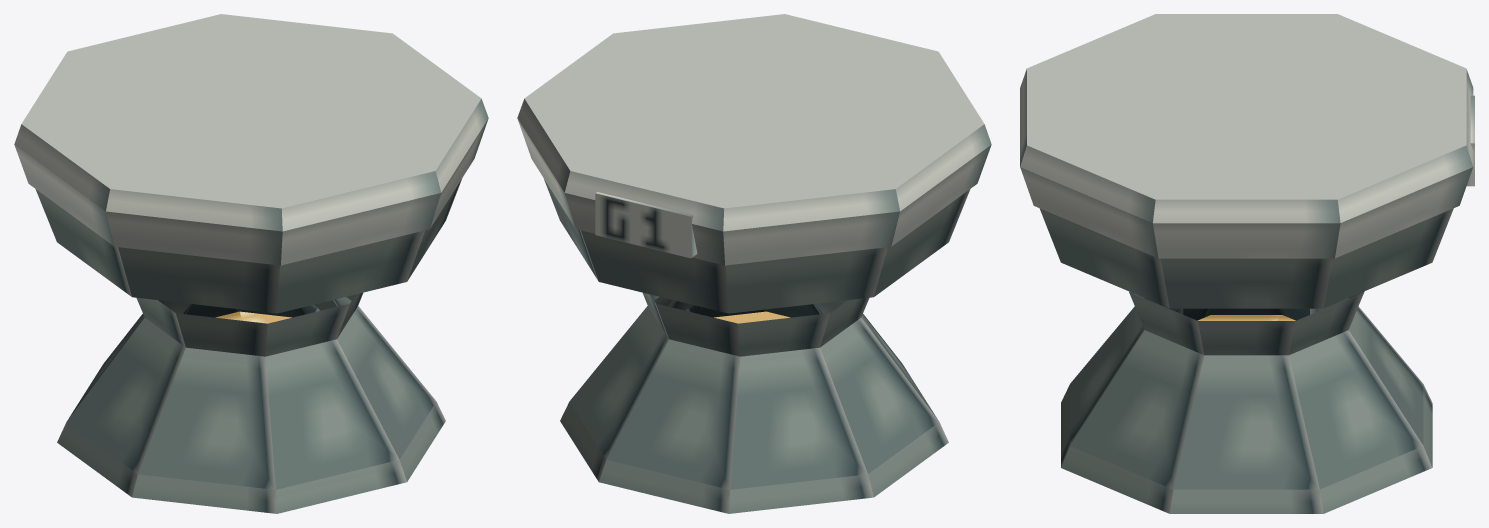
The model's file is rocket_engine_tier_1.obj.
3 views of the same model, side by side, from view 1: azimuth 30°, elevation 25°; view 2: azimuth 150°, elevation 25°; view 3: azimuth 270°, elevation 25° (orthographic). The views are drawn at different scales.
Parts seen in each view (by area): view 1: Engine, Nozzle; view 2: Engine, Nozzle; view 3: Engine, Nozzle, Glow.
Boxes of the visible parts, <box> form: Engine: <box>14,14,488,313</box>; Nozzle: <box>57,292,445,513</box>; Engine: <box>517,14,991,313</box>; Nozzle: <box>560,292,948,513</box>; Engine: <box>1020,14,1474,308</box>; Nozzle: <box>1061,291,1432,513</box>; Glow: <box>1197,315,1295,320</box>.
Size of the model in its own units: 1.25 by 1 by 1.25.
